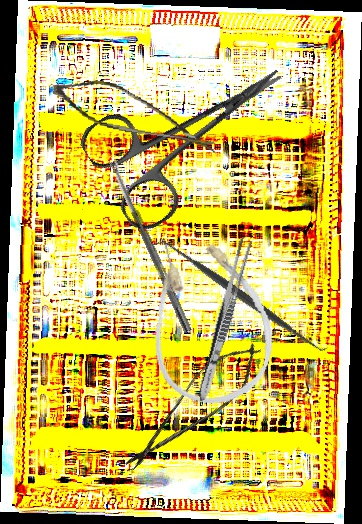Cannula: (132, 223, 286, 415)
Dressing Forceps: (194, 235, 254, 404)
Iris Scissors: (74, 26, 314, 238)
Micro Scissor: (114, 330, 273, 485), (47, 73, 226, 154)
Spatula Surgical: (151, 228, 331, 363)
Surgical Spoon: (108, 158, 193, 333)
